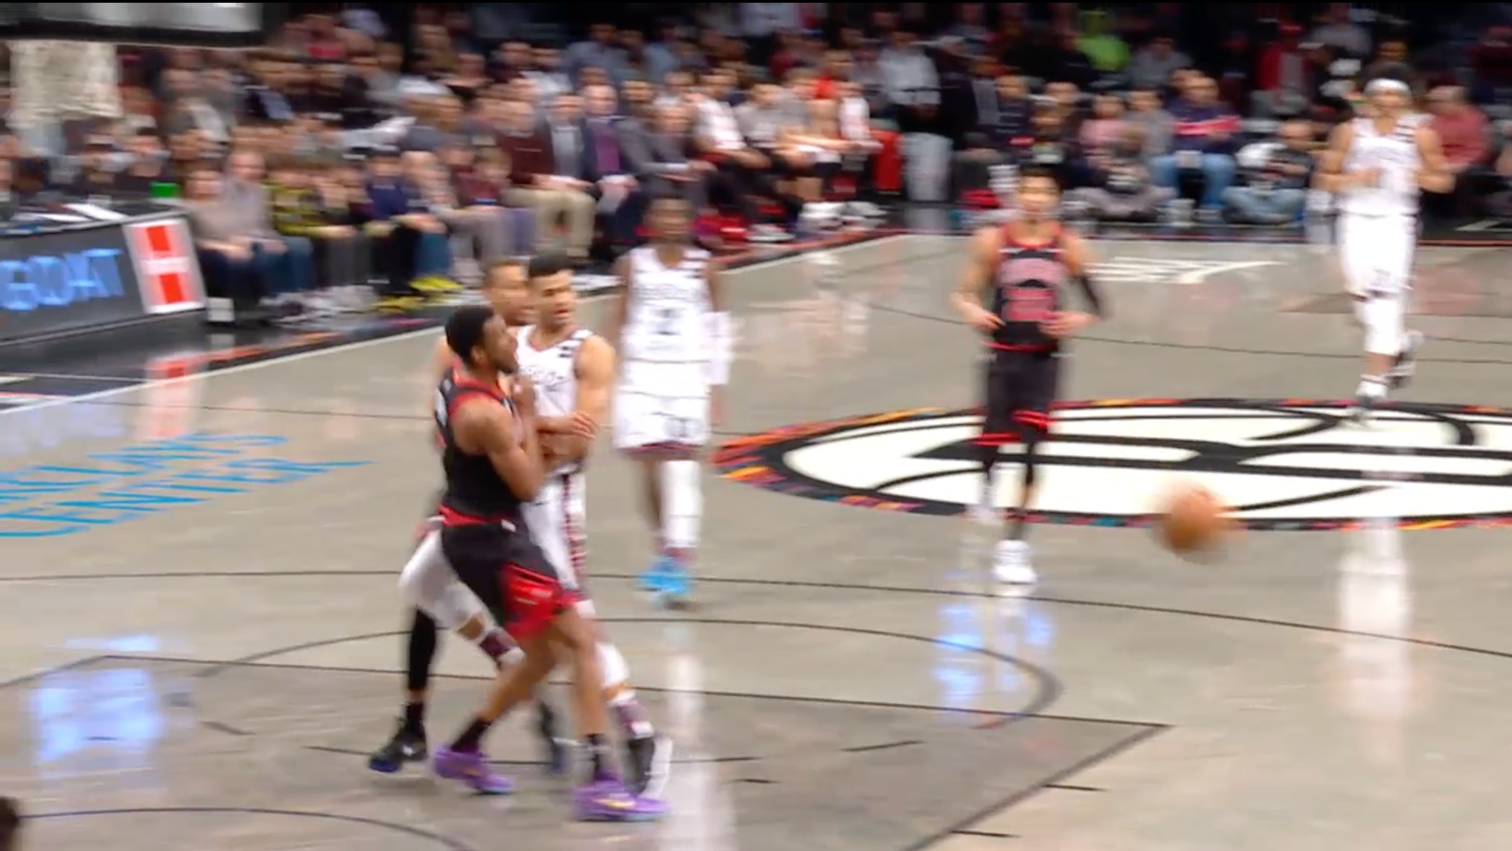Foul: (435, 281, 619, 803)
